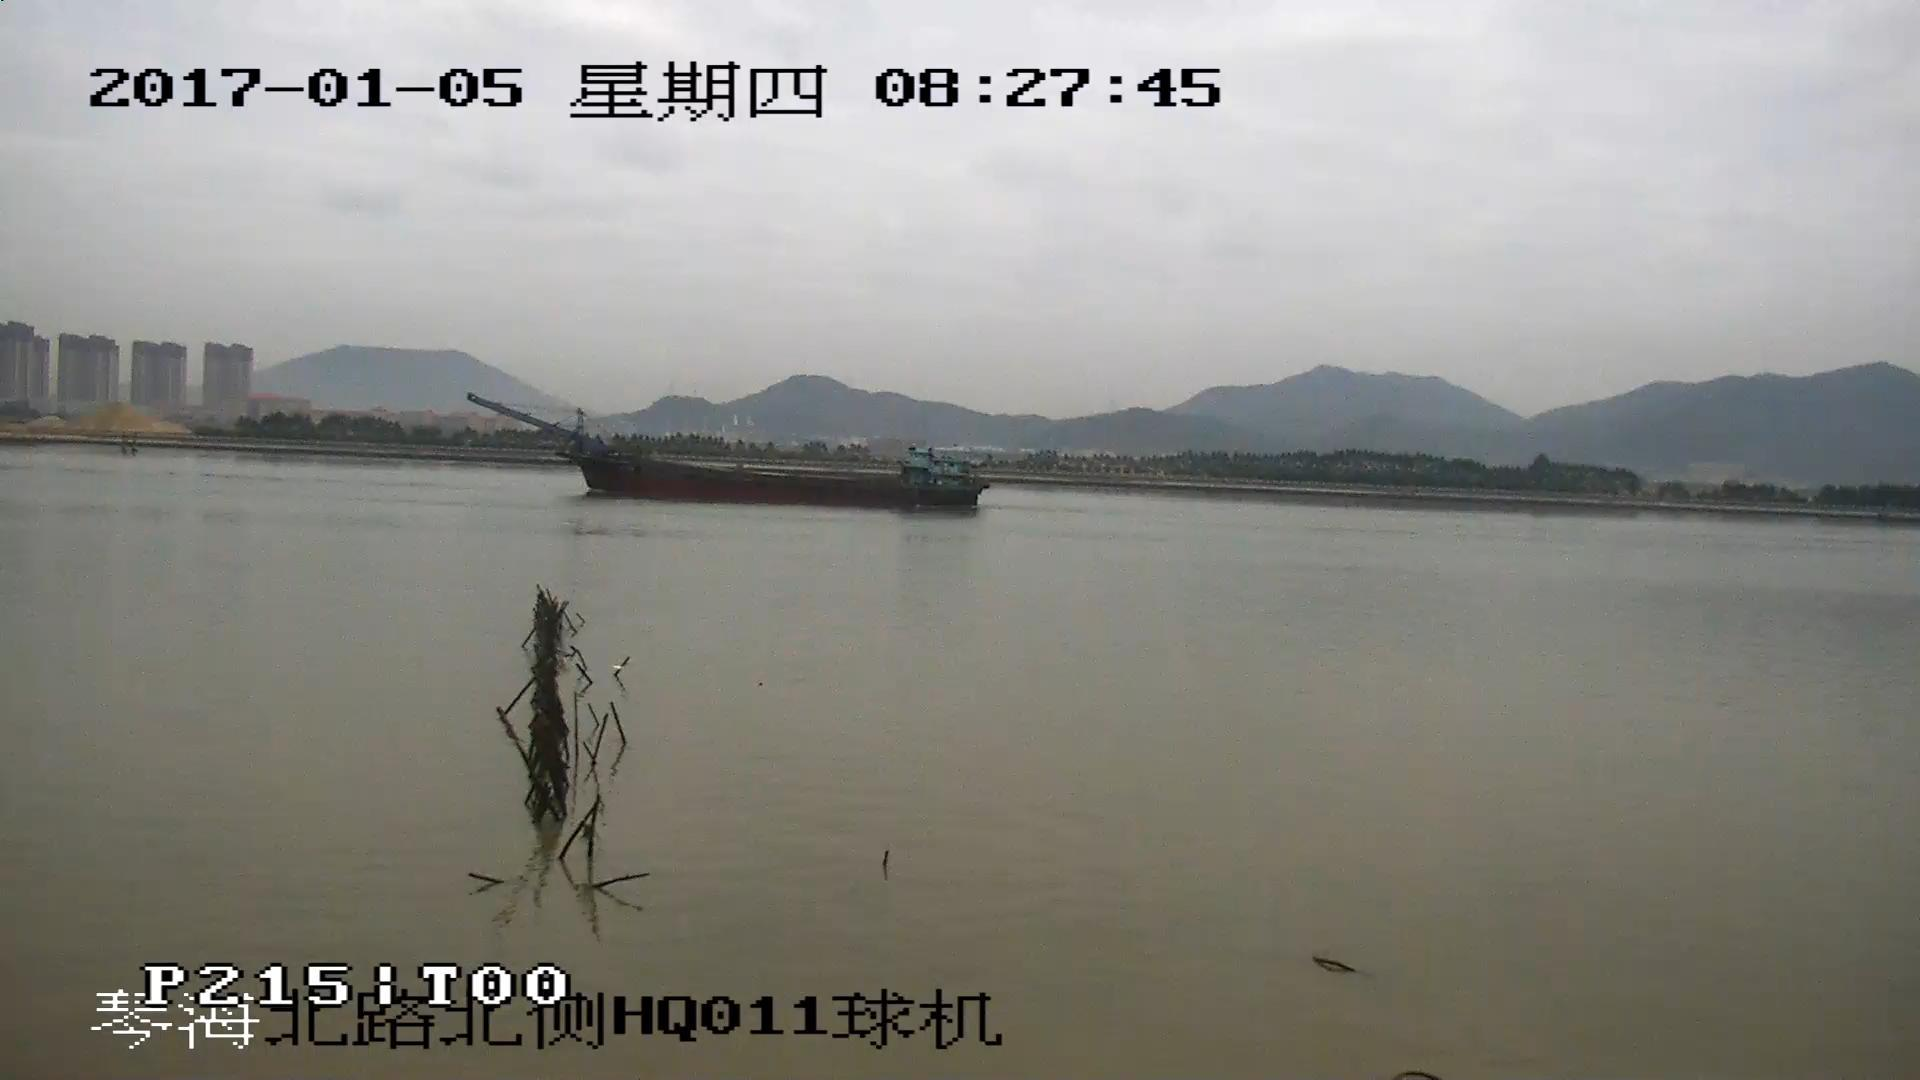Ship: (469, 397, 994, 509)
